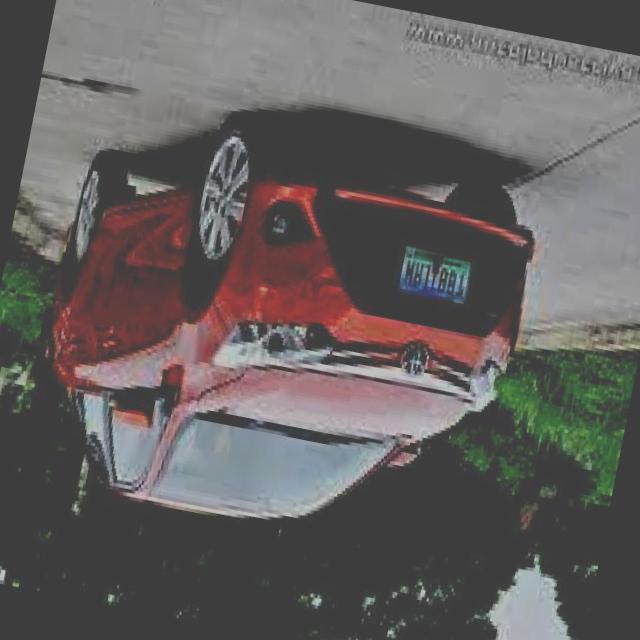ToyotaVios: (14, 82, 552, 570)
